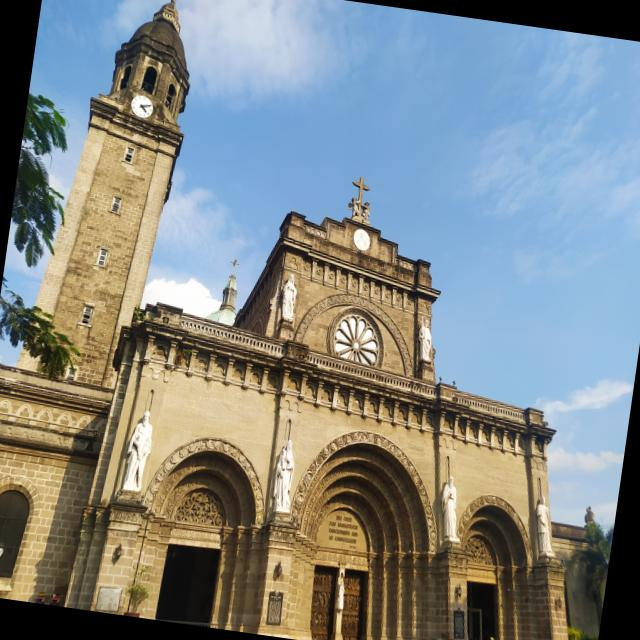Manila Cathedral: (0, 0, 602, 640)
